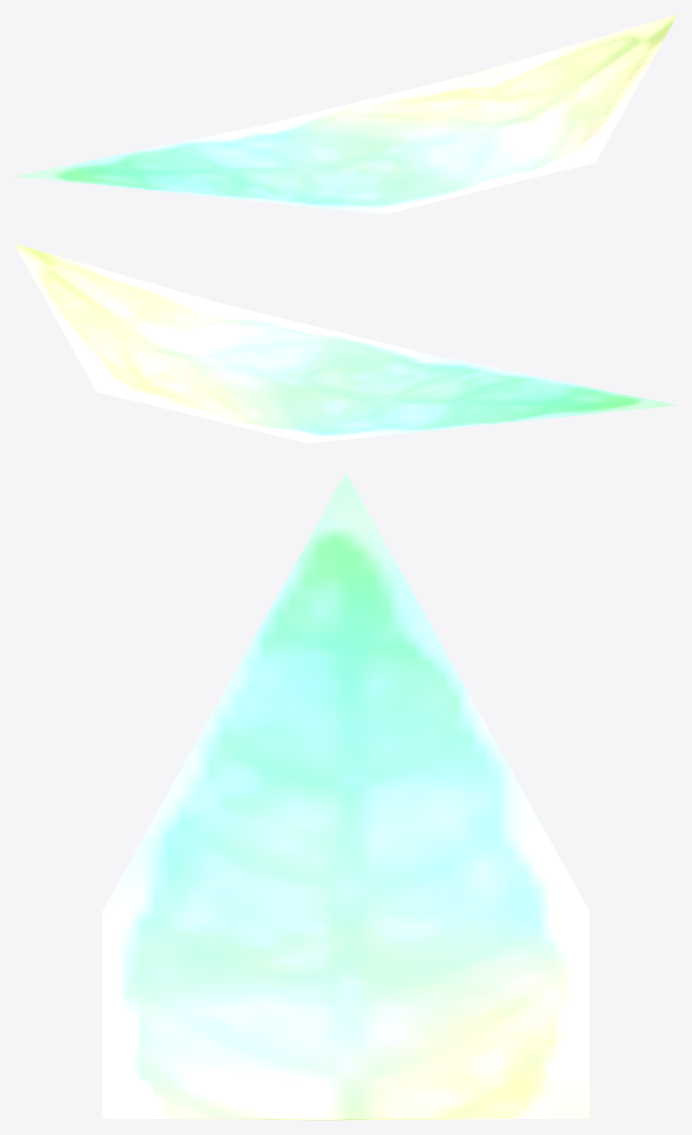
The model's file is dead_leaf_01_SM.fbx.
3 renders of one model, top to bottom at view 1: azimuth 30°, elevation 25°; view 2: azimuth 150°, elevation 25°; view 3: azimuth 270°, elevation 25°, orthographic. The views are drawn at different scales.
Parts seen in each view (by area): view 1: dead_leaf_01_SM_LOD0; view 2: dead_leaf_01_SM_LOD0; view 3: dead_leaf_01_SM_LOD0.
Part boxes in pixels (x1,y1,x2,y2): dead_leaf_01_SM_LOD0: [15, 14, 677, 214]; dead_leaf_01_SM_LOD0: [14, 243, 676, 443]; dead_leaf_01_SM_LOD0: [102, 473, 589, 1120].
Size of the model in its own units: 58.65 by 18.64 by 5.82.
1 material, 1 textured.
